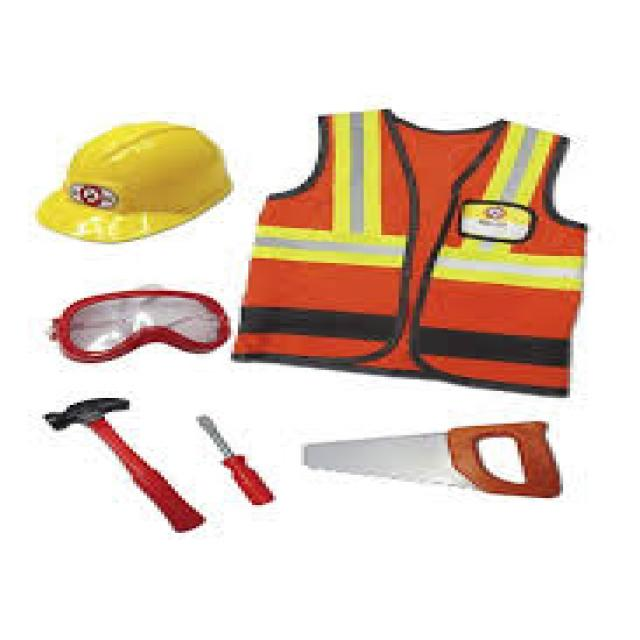Reflective-Jacket: (220, 107, 602, 396)
